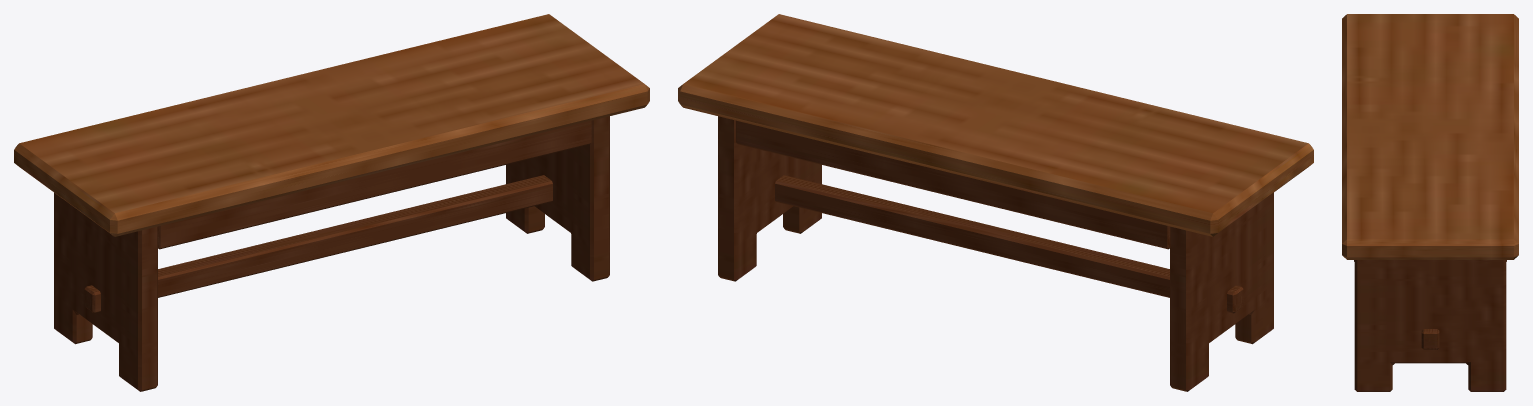
File: bench.glb
The picture shows the model from 3 angles, left to right: view 1: azimuth 30°, elevation 25°; view 2: azimuth 150°, elevation 25°; view 3: azimuth 270°, elevation 25°; orthographic projection. The views are drawn at different scales.
Visible parts, largest first — view 1: BenchSeat, BenchLegs; view 2: BenchSeat, BenchLegs; view 3: BenchSeat, BenchLegs.
Boxes of the visible parts, <box> form: BenchSeat: <box>14,14,649,236</box>; BenchLegs: <box>54,116,609,391</box>; BenchSeat: <box>678,14,1313,236</box>; BenchLegs: <box>718,116,1273,391</box>; BenchSeat: <box>1342,14,1518,259</box>; BenchLegs: <box>1354,260,1506,391</box>.
Bounding box in the file's own units: 0.86 × 0.29 × 0.28.
2 materials, 2 textured.
